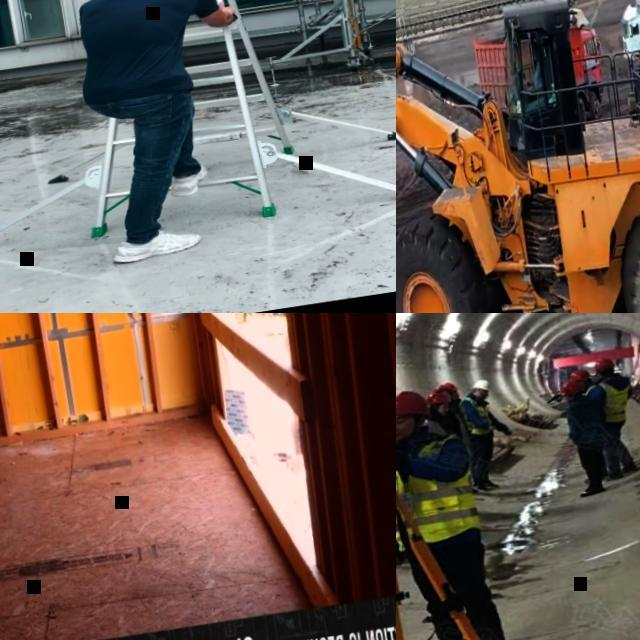Helmet: (397, 384, 427, 414), (561, 368, 593, 395), (431, 379, 459, 409), (594, 357, 618, 380), (468, 376, 490, 392)
Robbery: (74, 0, 238, 269), (399, 389, 504, 640), (554, 362, 618, 503), (464, 369, 512, 504), (594, 352, 640, 471), (504, 393, 559, 445), (433, 372, 476, 435)
